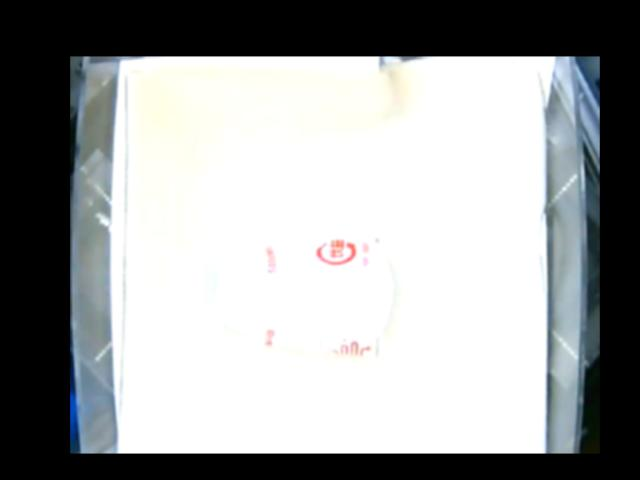Bottle: (214, 235, 396, 356)
